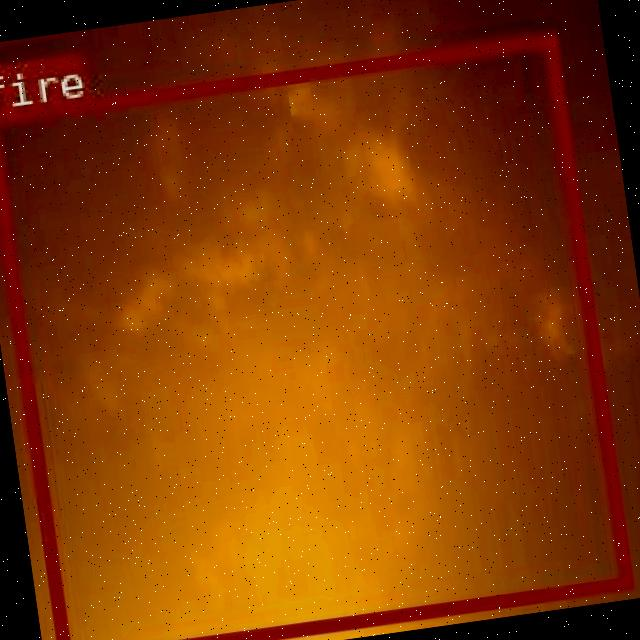fire: (0, 30, 631, 640)
